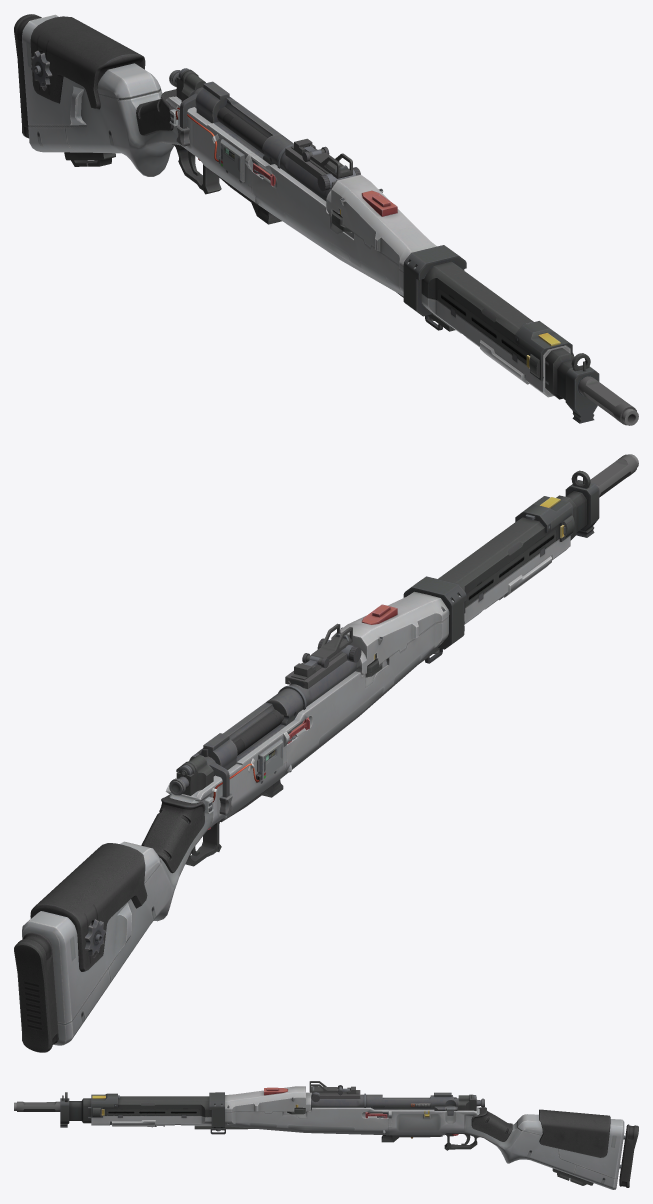
The model's file is raw.glb.
The picture shows the model from 3 angles, top to bottom: view 1: azimuth 30°, elevation 25°; view 2: azimuth 150°, elevation 25°; view 3: azimuth 270°, elevation 25°; orthographic projection. The views are drawn at different scales.
Parts seen in each view (by area): view 1: m1903_ssr_LOD0; view 2: m1903_ssr_LOD0; view 3: m1903_ssr_LOD0.
Boxes of the visible parts, x1,y1,x2,y2 form: m1903_ssr_LOD0: (14, 14, 638, 425); m1903_ssr_LOD0: (14, 454, 638, 1052); m1903_ssr_LOD0: (14, 1081, 638, 1189).
Bounding box in the file's own units: 0.0653 × 0.2208 × 1.19.
Materials: 1 (1 with a texture image).
